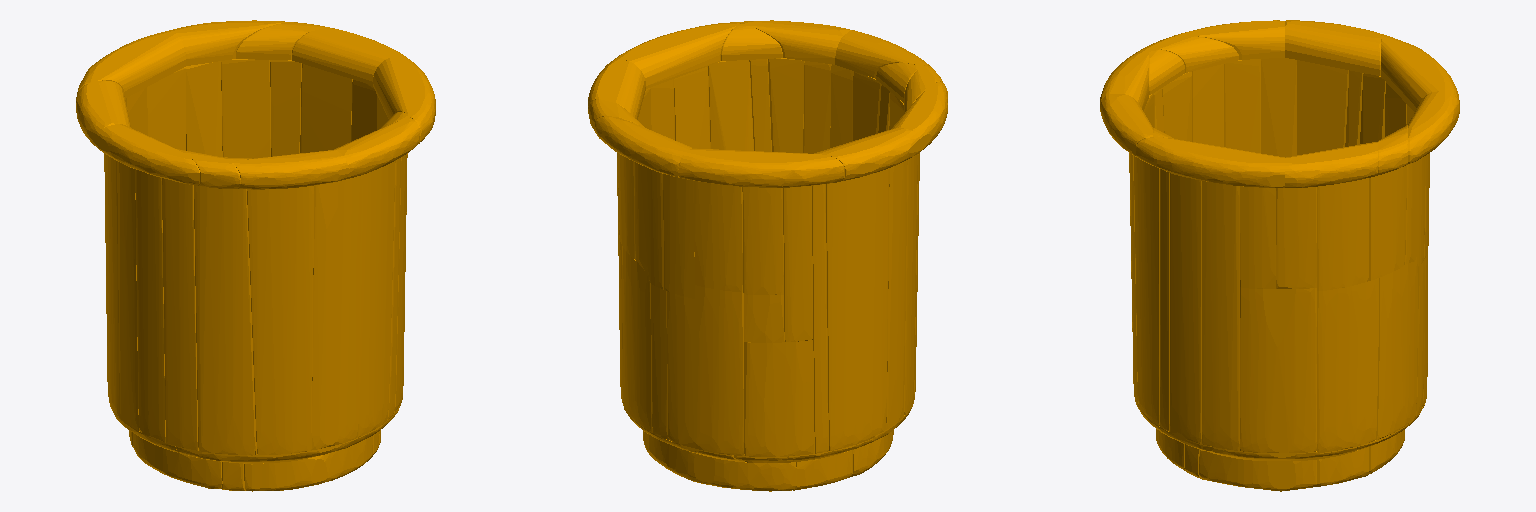
The robot description file, URDF, robot "065-a_cups":
<?xml version="1.0" encoding="UTF-8"?>
<robot name="065-a_cups">
	<link name="base">
		<collision>
			<geometry>
				<mesh filename="..\vhacd\065-a_cups_vhacd.obj" scale="1.0 1.0 1.0"/>
			</geometry>
			<origin xyz="0 0 0"/>
			<contact_coefficients mu="0.24" />
		</collision>
		<visual>
			<geometry>
				<mesh filename="..\vhacd\065-a_cups_vhacd.obj" scale="1.0 1.0 1.0"/>
			</geometry>
			<origin xyz="0 0 0"/>
		</visual>
		<inertial>
			<mass value="0"/>
			<inertia ixx="0.0" ixy="-0.0" ixz="0.0" iyy="0.0" iyz="0.0" izz="0.0" />
			<origin xyz="-0.03054243461244178 -0.04266839708494934 0.028457527140450266"/>
		</inertial>
	</link>
</robot>

--- Render facts (derived) ---
The picture shows the robot from 3 angles, left to right: view 1: azimuth 30°, elevation 25°; view 2: azimuth 150°, elevation 25°; view 3: azimuth 270°, elevation 25°; orthographic projection.
Robot: 065-a_cups — 1 links, 0 joints (none); root link base; default pose: all joints at 0.
Visible links, largest first — view 1: base; view 2: base; view 3: base.
Boxes of the visible links, box(x1,y1,x2,y2) form: base: box(76, 20, 435, 491); base: box(588, 20, 947, 491); base: box(1100, 20, 1459, 491).
Bounding box of the posed robot: 0.0573 × 0.0576 × 0.0617 m (x, y, z).
1 mesh visuals loaded from 1 distinct referenced files (1 OBJ).